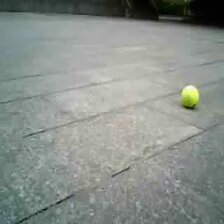tennis: (181, 86, 198, 105)
